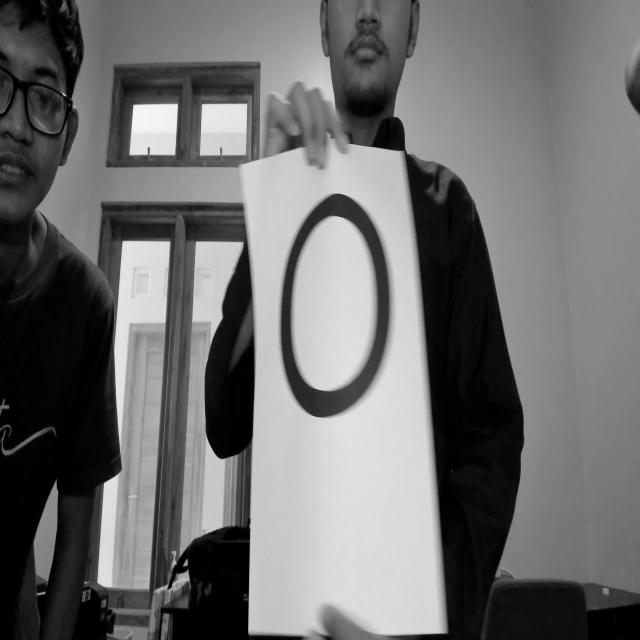o: (251, 162, 414, 425)
